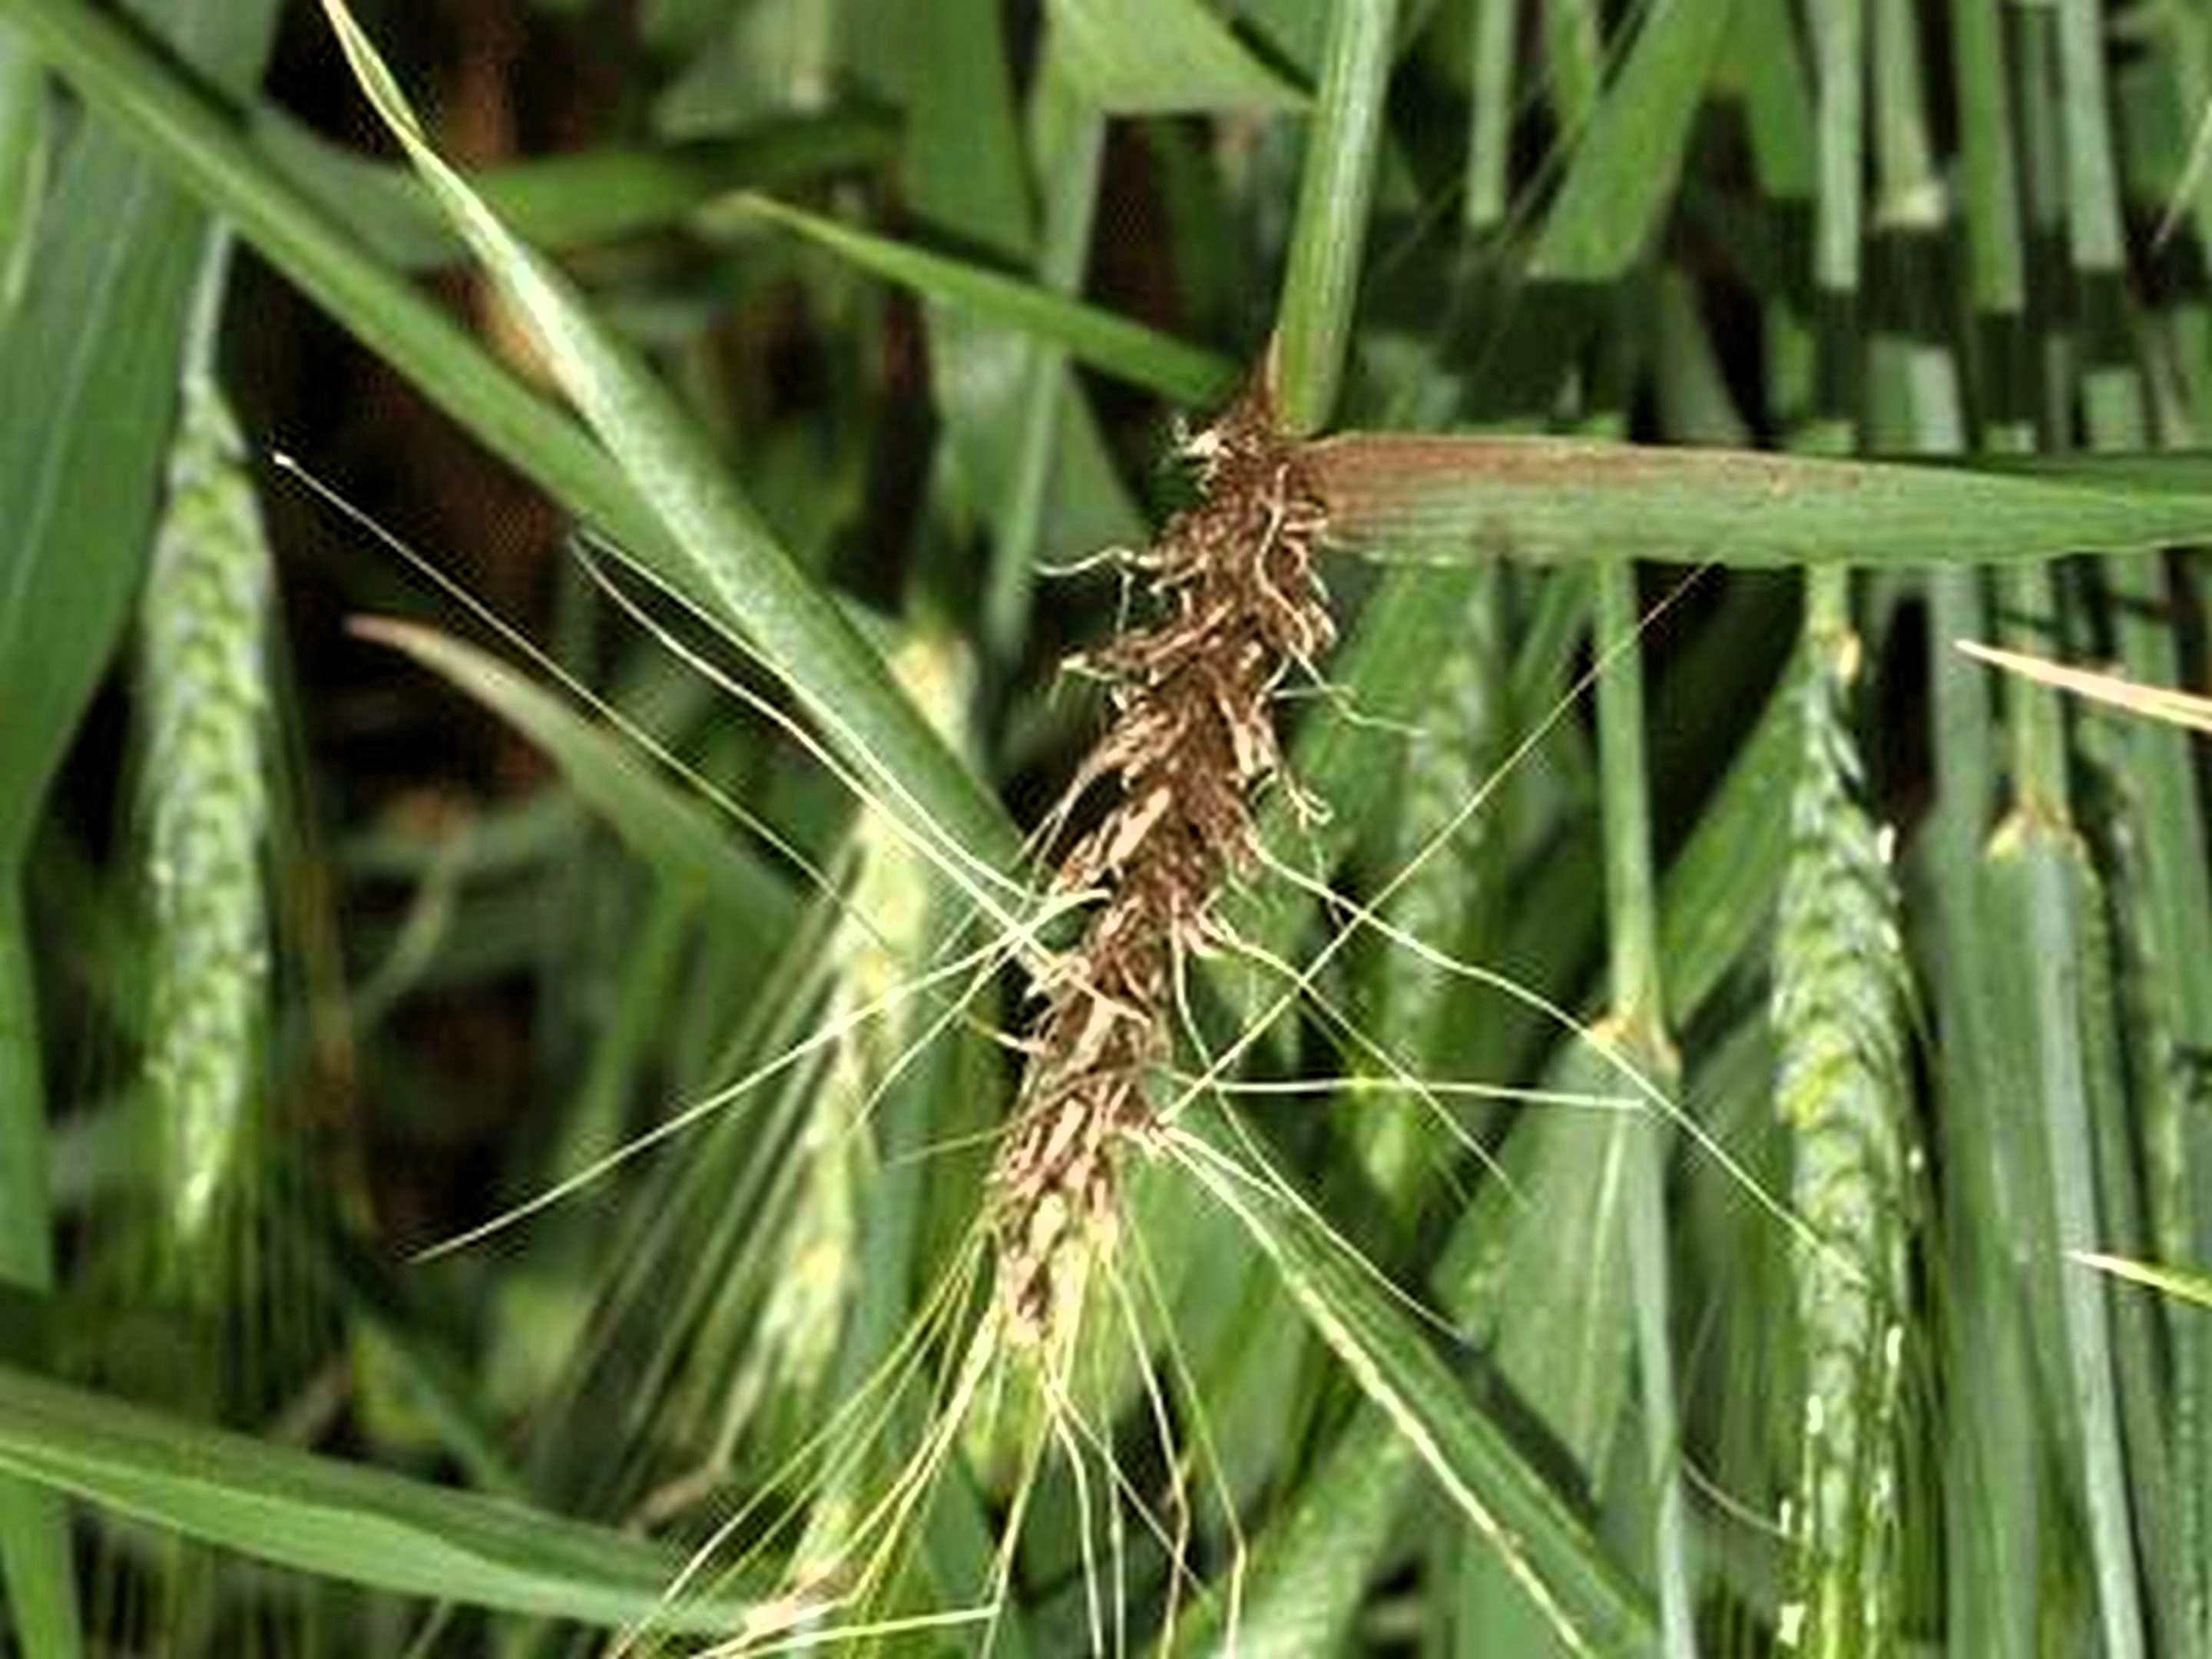Wheat Loose Smut: (904, 532, 1315, 1410)
